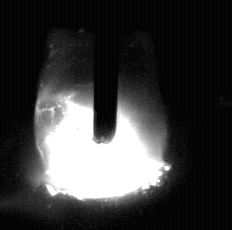arame: (94, 0, 119, 144)
poca: (35, 0, 168, 230)
